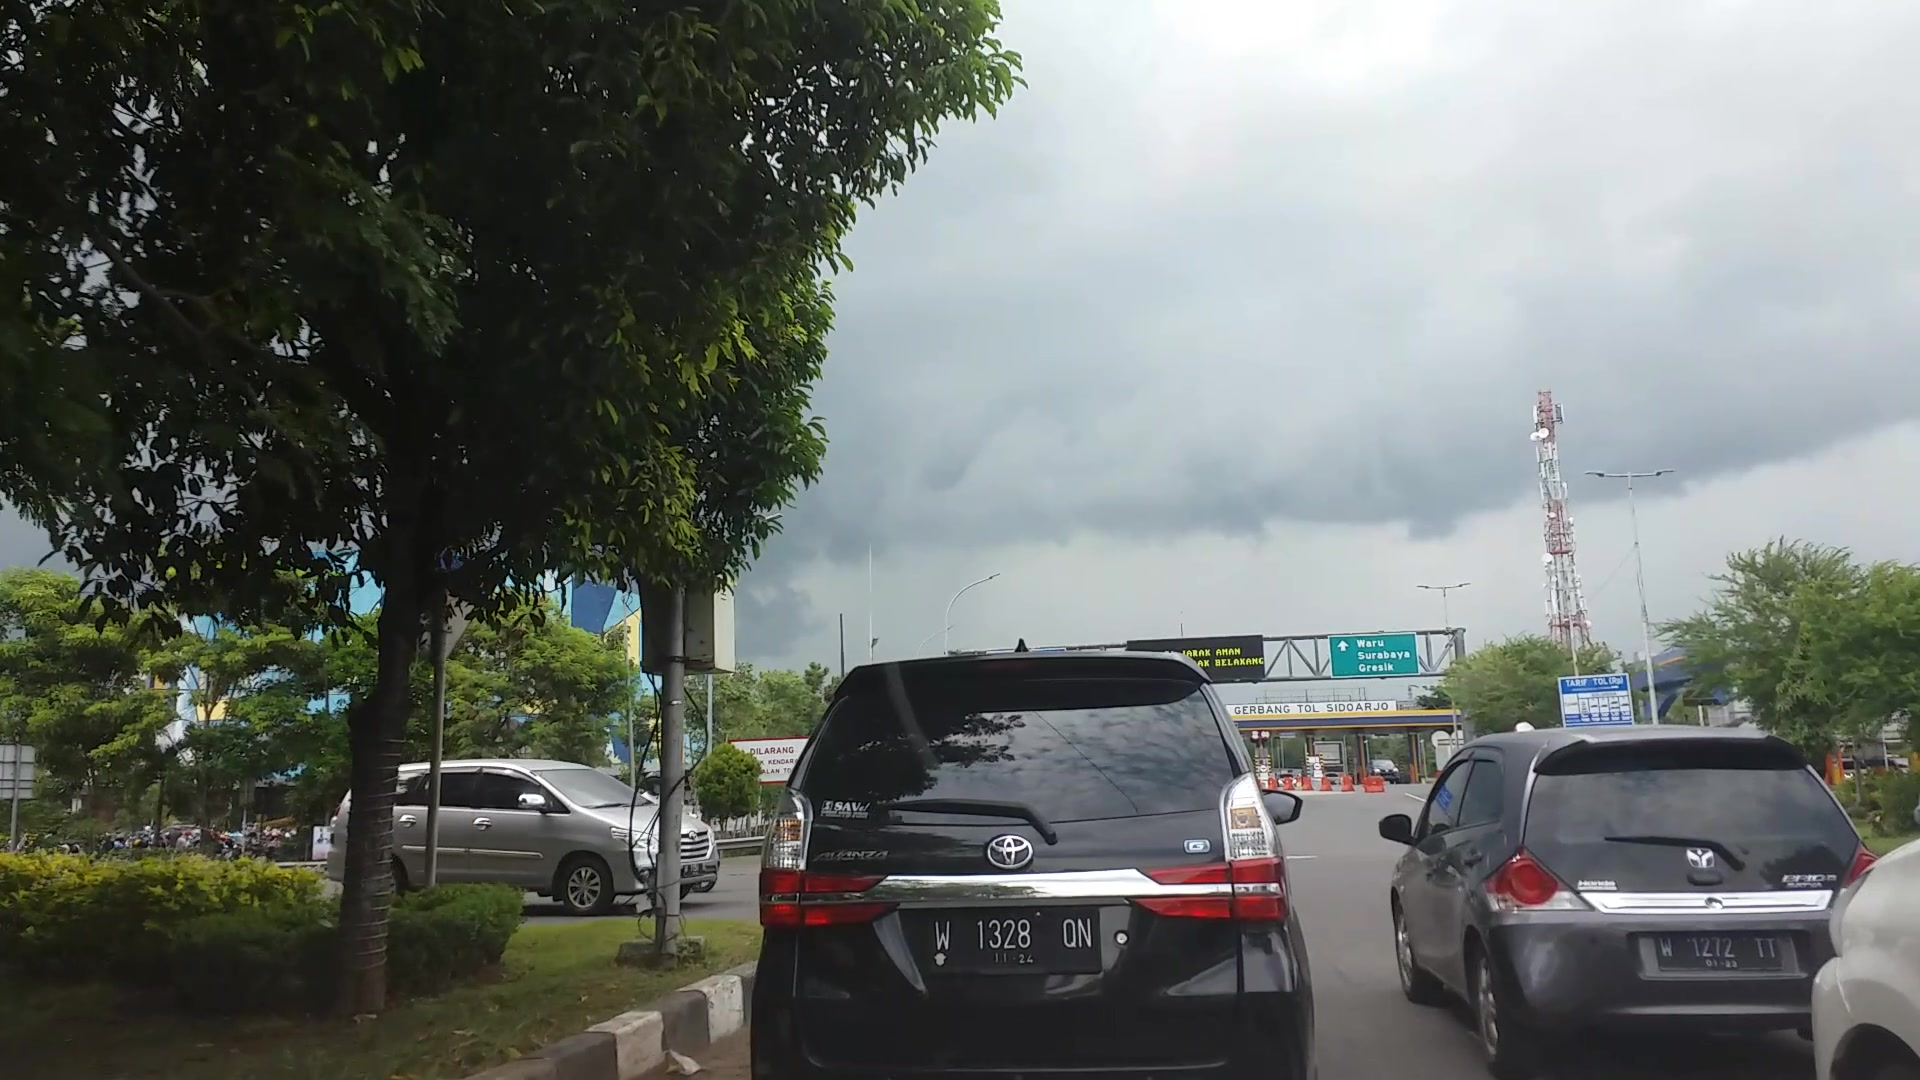plate_positive: (927, 909, 1102, 973), (1652, 931, 1782, 971)
